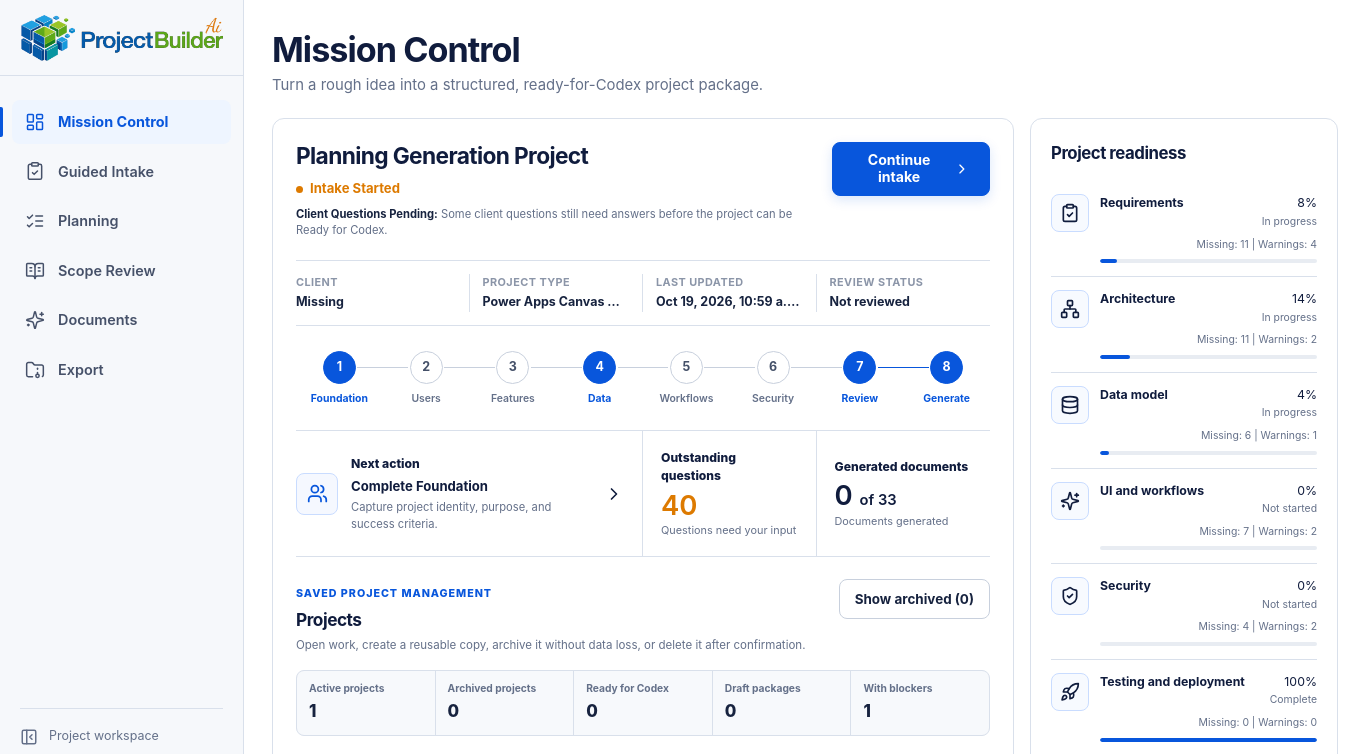
Scenario: App - explicit planning generation and refresh › runs an unchanged Refresh planning exactly once without duplicates
Click the button "Planning" at (122, 221), box [12,199,231,243]
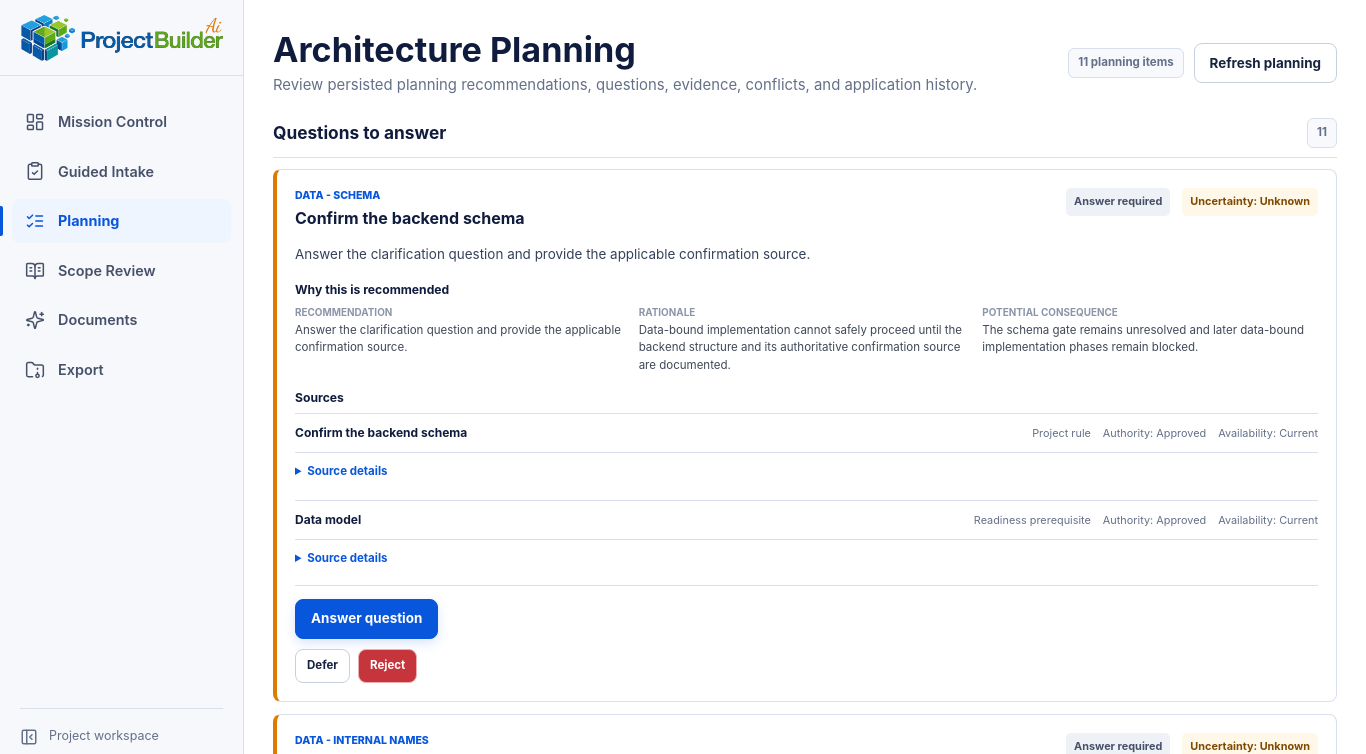
Click the button "Refresh planning" at (1265, 63), box [1194,43,1337,83]
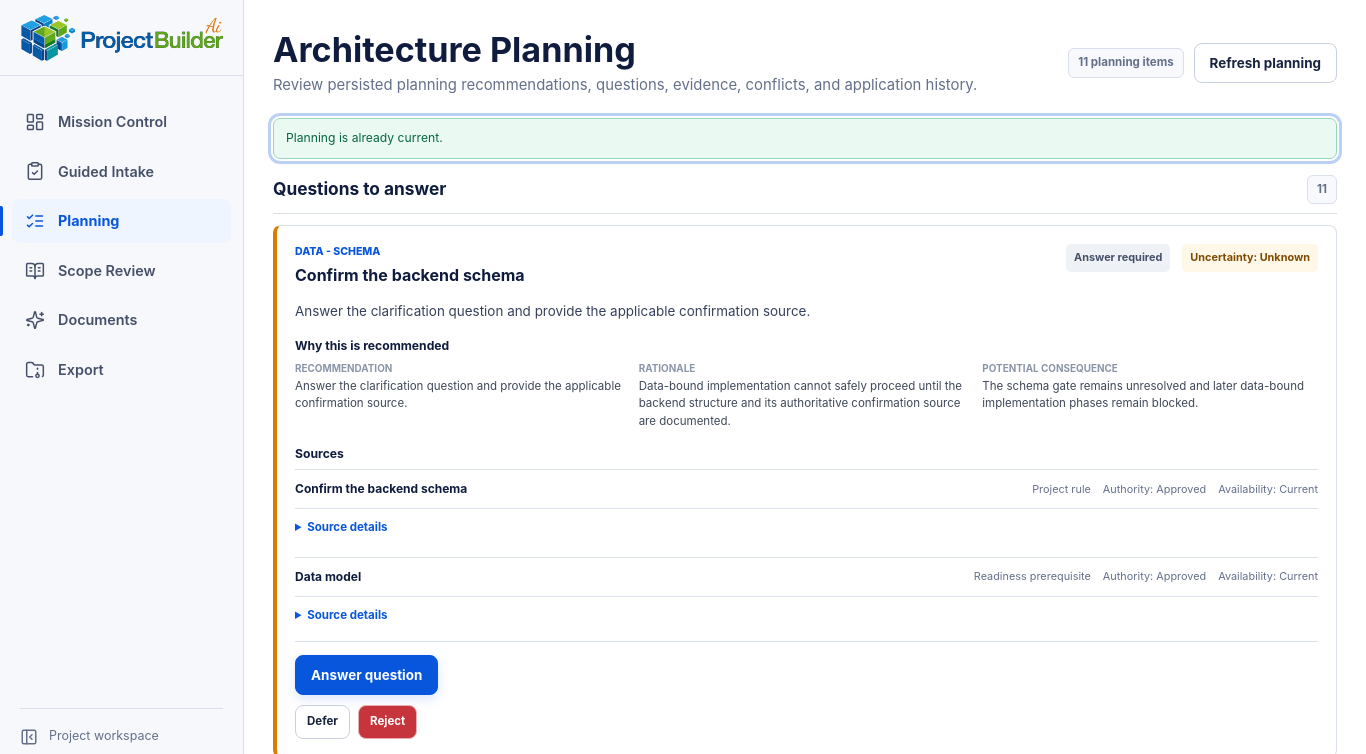
expect the text "Planning is already current." is shown: met, box [273,118,1337,158]
